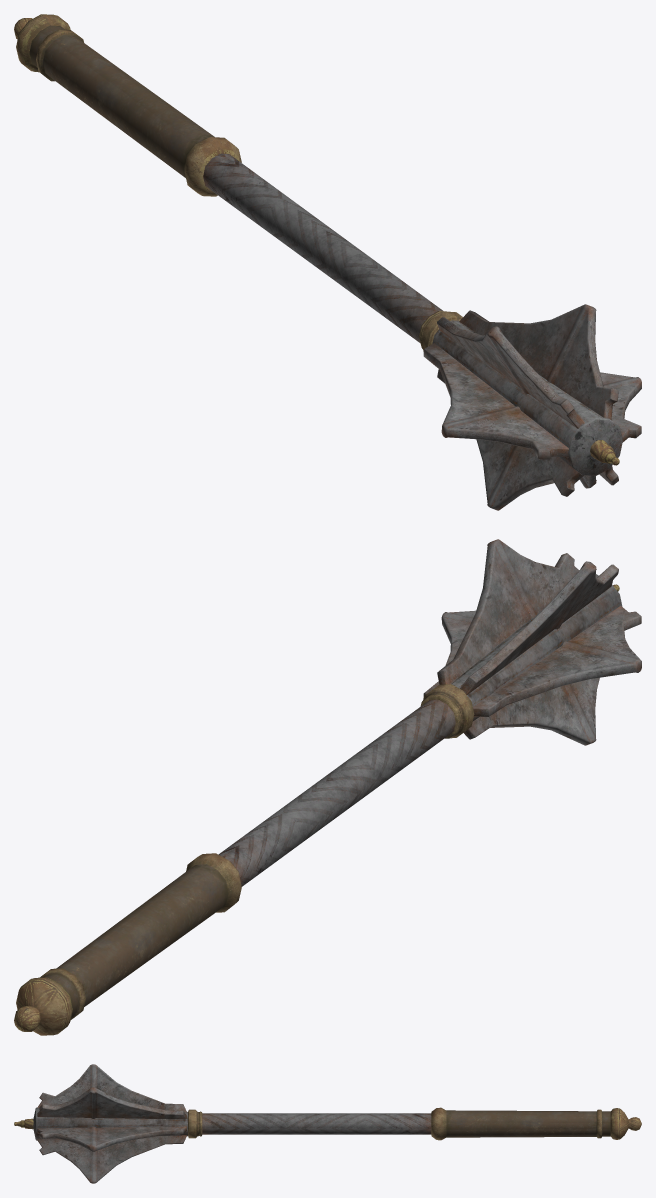
The picture shows the model from 3 angles, top to bottom: view 1: azimuth 30°, elevation 25°; view 2: azimuth 150°, elevation 25°; view 3: azimuth 270°, elevation 25°; orthographic projection. The views are drawn at different scales.
Visible parts, largest first — view 1: WP_A_0802; view 2: WP_A_0802; view 3: WP_A_0802.
Part boxes in pixels (x1,y1,x2,y2): WP_A_0802: (14,14,641,510); WP_A_0802: (14,539,641,1035); WP_A_0802: (14,1064,641,1183).
Bounding box in the file's own units: 17.34 × 15.42 × 91.24.
Materials: 1 (1 with a texture image).
